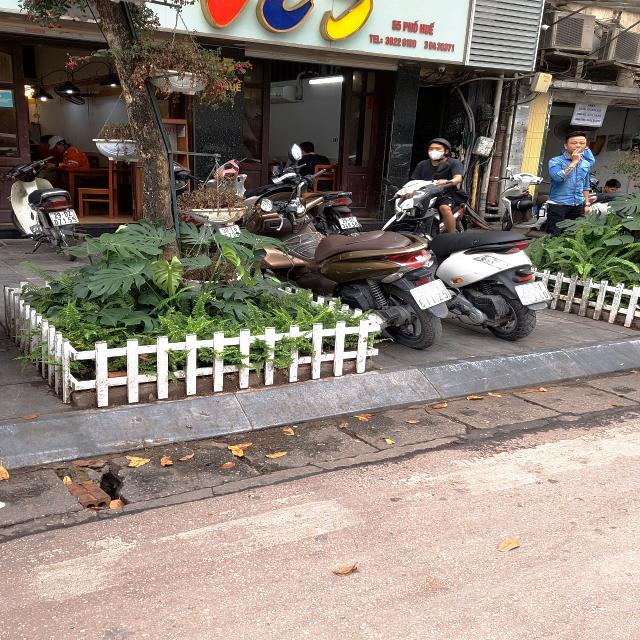license_plate: (411, 280, 454, 309), (516, 281, 554, 307), (339, 217, 361, 230)
